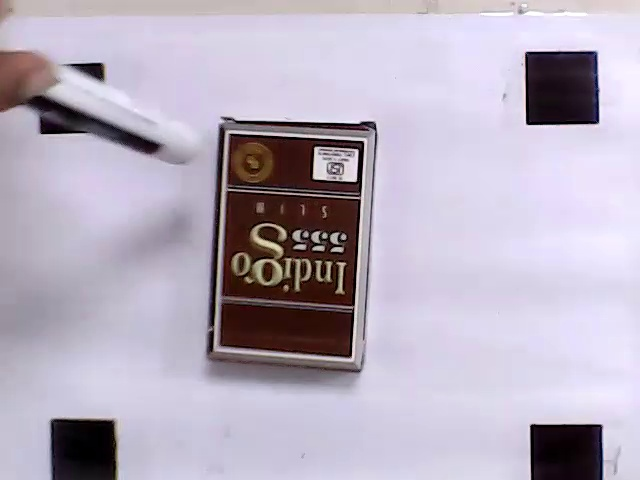BEX: (216, 131, 367, 360)
